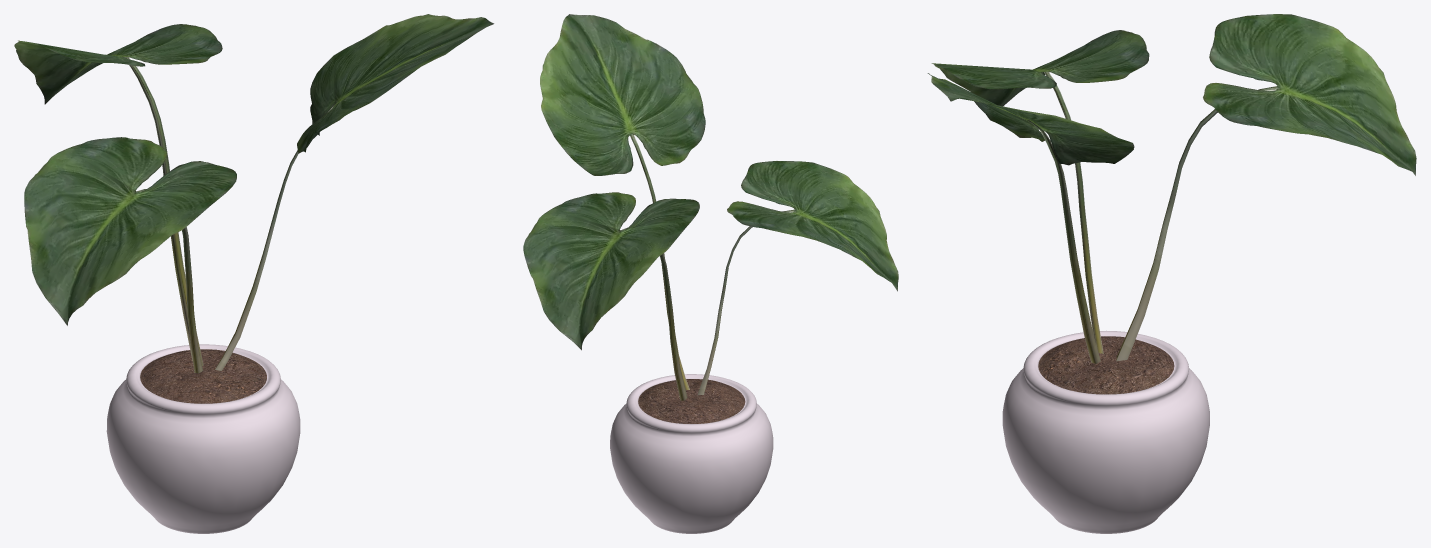
Rendered from house_palm_plant.glb.
3 views of the same model, side by side, from view 1: azimuth 30°, elevation 25°; view 2: azimuth 150°, elevation 25°; view 3: azimuth 270°, elevation 25° (orthographic). The views are drawn at different scales.
Parts seen in each view (by area): view 1: Plane_plant_0, Cylinder_FlowerPot_0, Cylinder_Soil_0; view 2: Plane_plant_0, Cylinder_FlowerPot_0, Cylinder_Soil_0; view 3: Plane_plant_0, Cylinder_FlowerPot_0, Cylinder_Soil_0.
Boxes of the visible parts, x1=… form: Plane_plant_0: x1=14, y1=14, x2=494, y2=373; Cylinder_FlowerPot_0: x1=106, y1=344, x2=300, y2=533; Cylinder_Soil_0: x1=140, y1=349, x2=266, y2=403; Plane_plant_0: x1=523, y1=14, x2=898, y2=400; Cylinder_FlowerPot_0: x1=610, y1=374, x2=773, y2=533; Cylinder_Soil_0: x1=638, y1=379, x2=745, y2=423; Plane_plant_0: x1=927, y1=14, x2=1416, y2=363; Cylinder_FlowerPot_0: x1=1002, y1=330, x2=1209, y2=533; Cylinder_Soil_0: x1=1038, y1=336, x2=1174, y2=394.
Bounding box in the file's own units: 0.9602 × 1.08 × 0.906.
3 materials, 2 textured.
